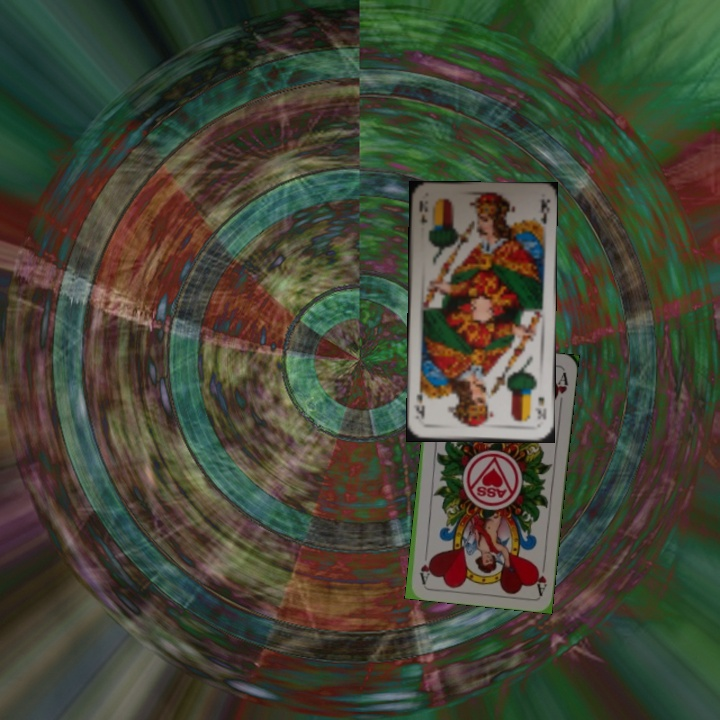EK: (531, 393, 549, 422), (415, 196, 430, 226)
HA: (531, 556, 550, 596)
